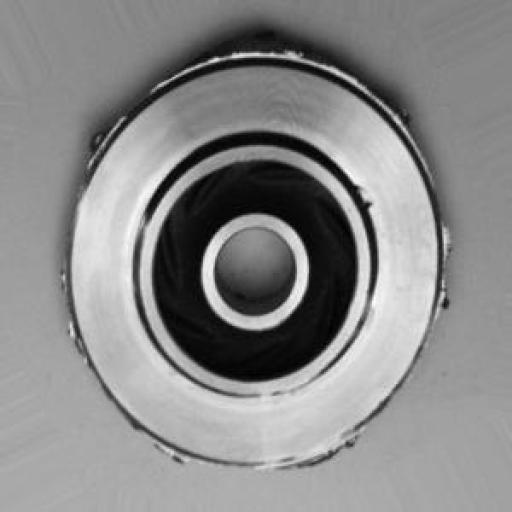defect: (21, 23, 464, 480)
